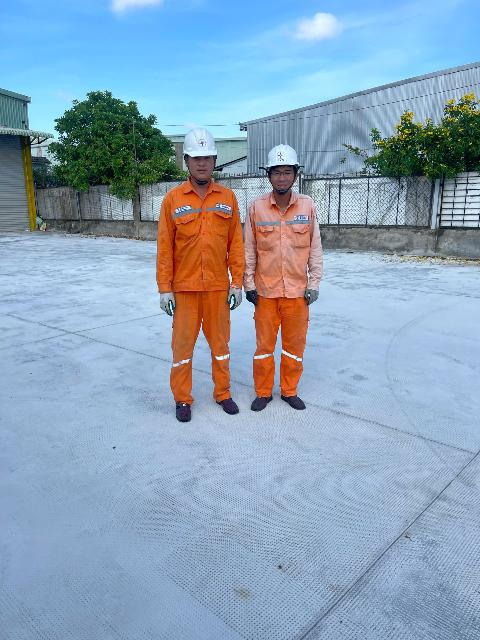gloves: (151, 281, 186, 317), (224, 283, 245, 313), (304, 282, 324, 311), (243, 282, 264, 306)
helmet: (174, 118, 230, 163), (257, 136, 312, 180)
shoes: (207, 388, 250, 426), (237, 383, 280, 420), (275, 378, 314, 414), (170, 393, 203, 426)
